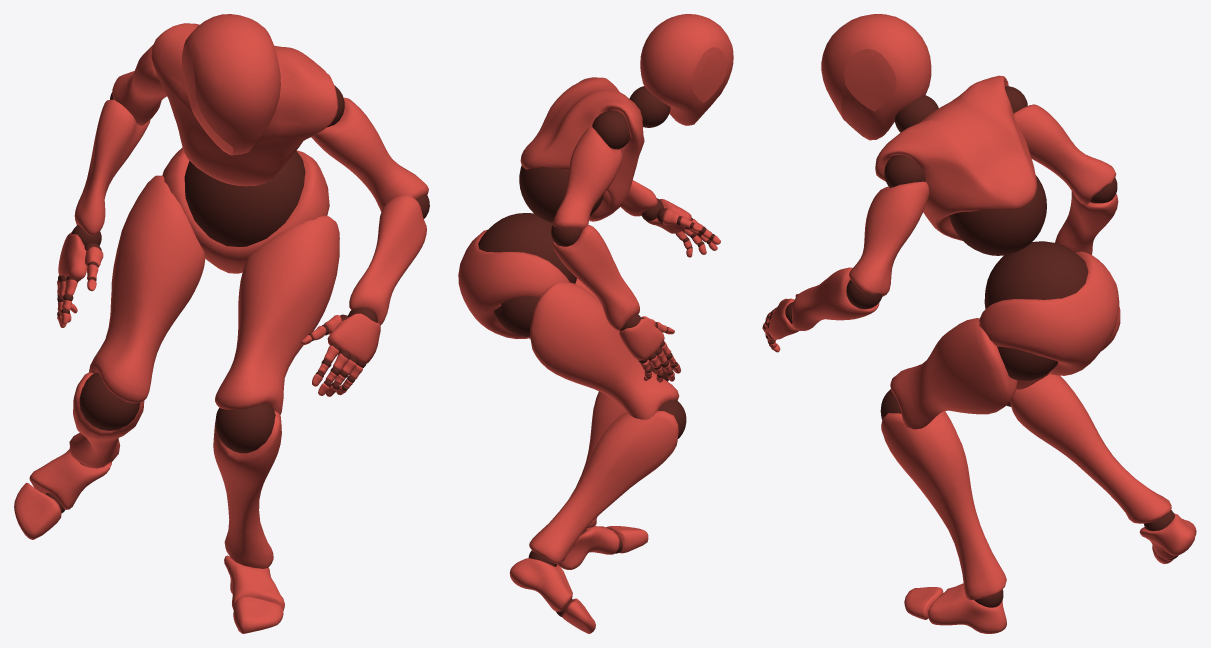
The picture shows the model from 3 angles, left to right: view 1: azimuth 30°, elevation 25°; view 2: azimuth 150°, elevation 25°; view 3: azimuth 270°, elevation 25°; orthographic projection. The views are drawn at different scales.
Parts seen in each view (by area): view 1: Beta_Surface, Beta_Joints; view 2: Beta_Surface, Beta_Joints; view 3: Beta_Surface, Beta_Joints.
Boxes of the visible parts, x1=… form: Beta_Surface: x1=14, y1=14, x2=428, y2=633; Beta_Joints: x1=45, y1=85, x2=429, y2=512; Beta_Surface: x1=458, y1=14, x2=733, y2=633; Beta_Joints: x1=478, y1=86, x2=714, y2=617; Beta_Surface: x1=762, y1=14, x2=1196, y2=633; Beta_Joints: x1=763, y1=86, x2=1178, y2=607.
Bounding box in the file's own units: 0.6177 × 1.4 × 0.9557.
